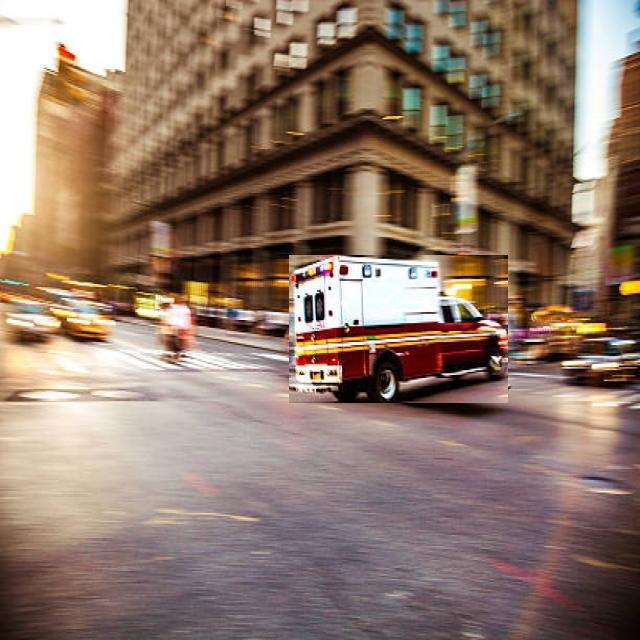emergency: (290, 255, 508, 403)
